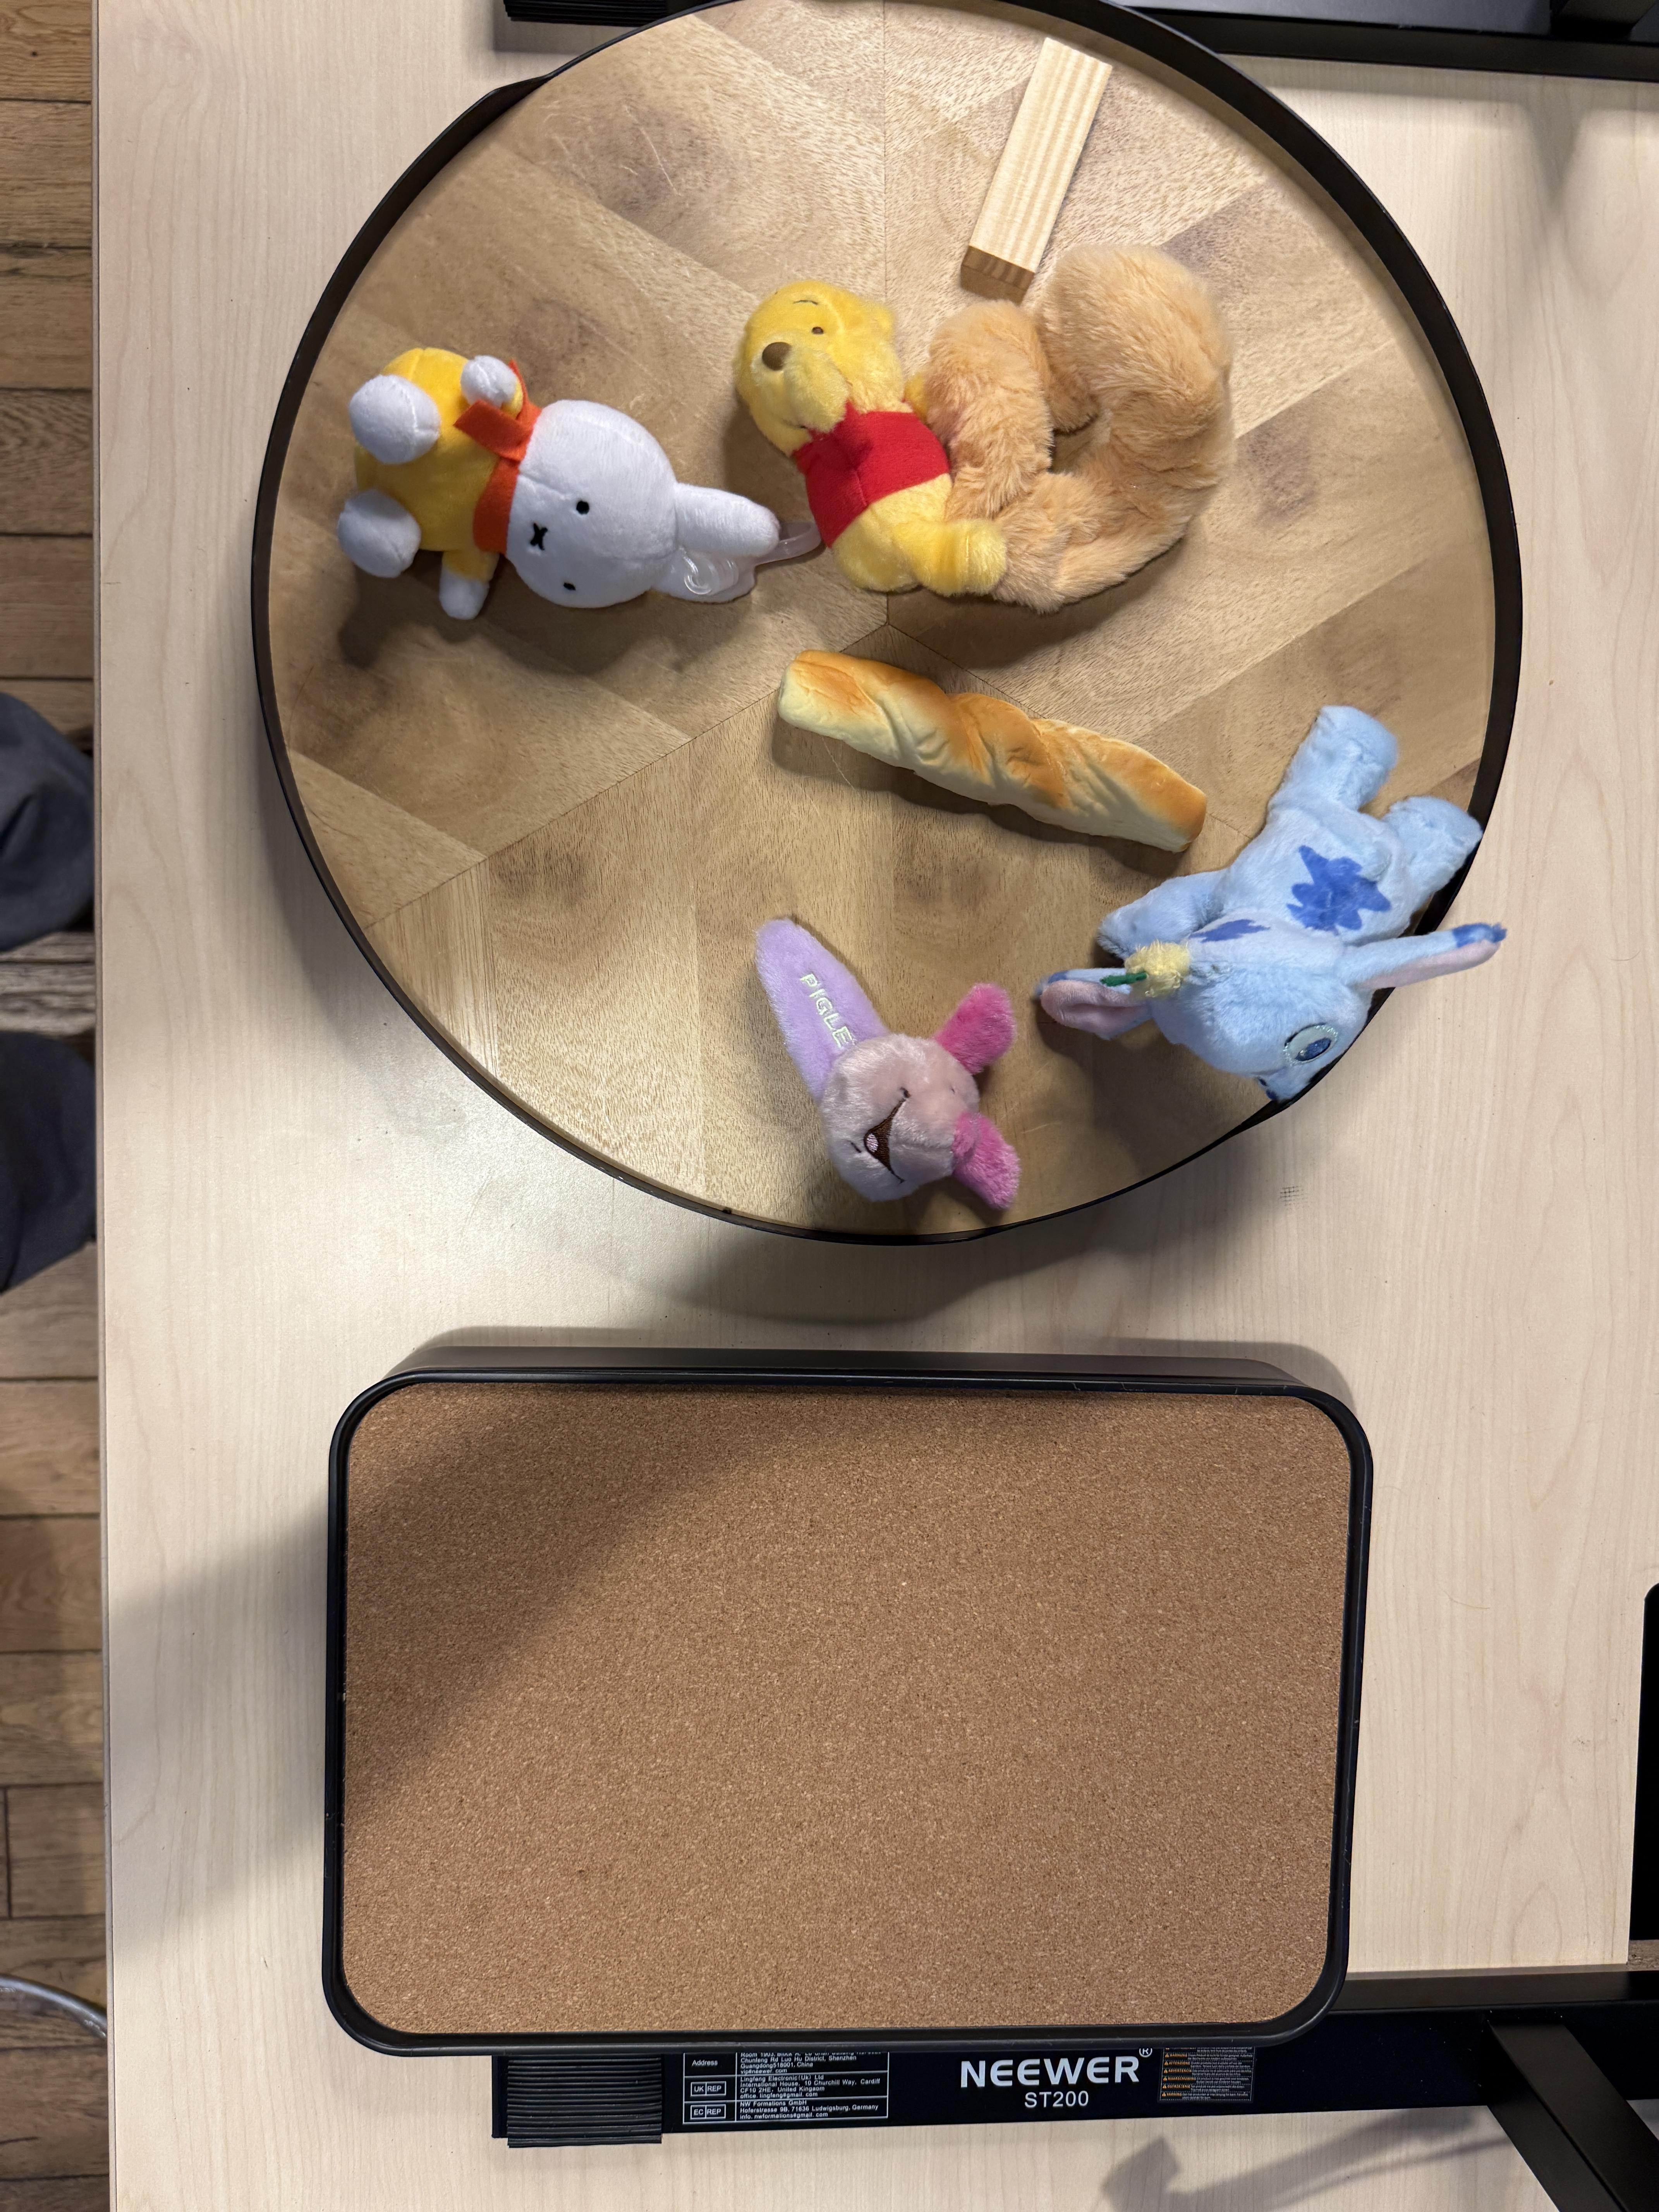block: (767, 721, 769, 754)
bread: (767, 631, 1215, 860)
doll: (1030, 693, 1514, 1109), (725, 244, 1244, 617), (321, 322, 786, 641), (713, 909, 1037, 1224), (735, 282, 737, 284)
